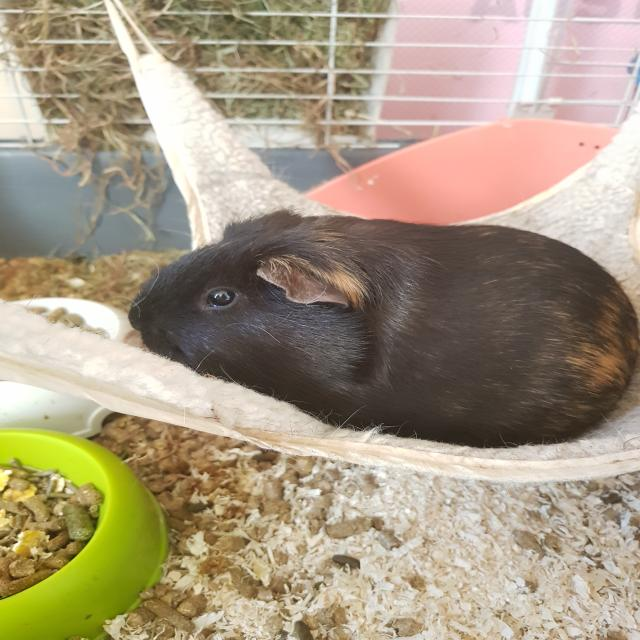guinea pig: (125, 210, 640, 450)
